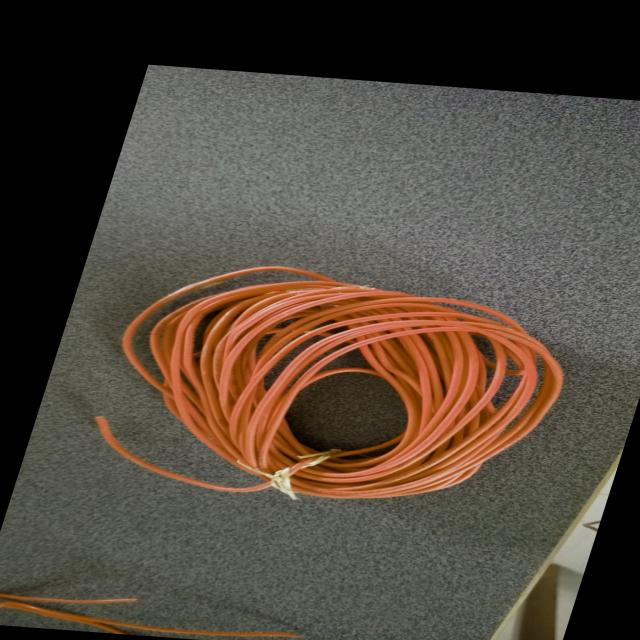Connecting Wires: (52, 250, 616, 526)
